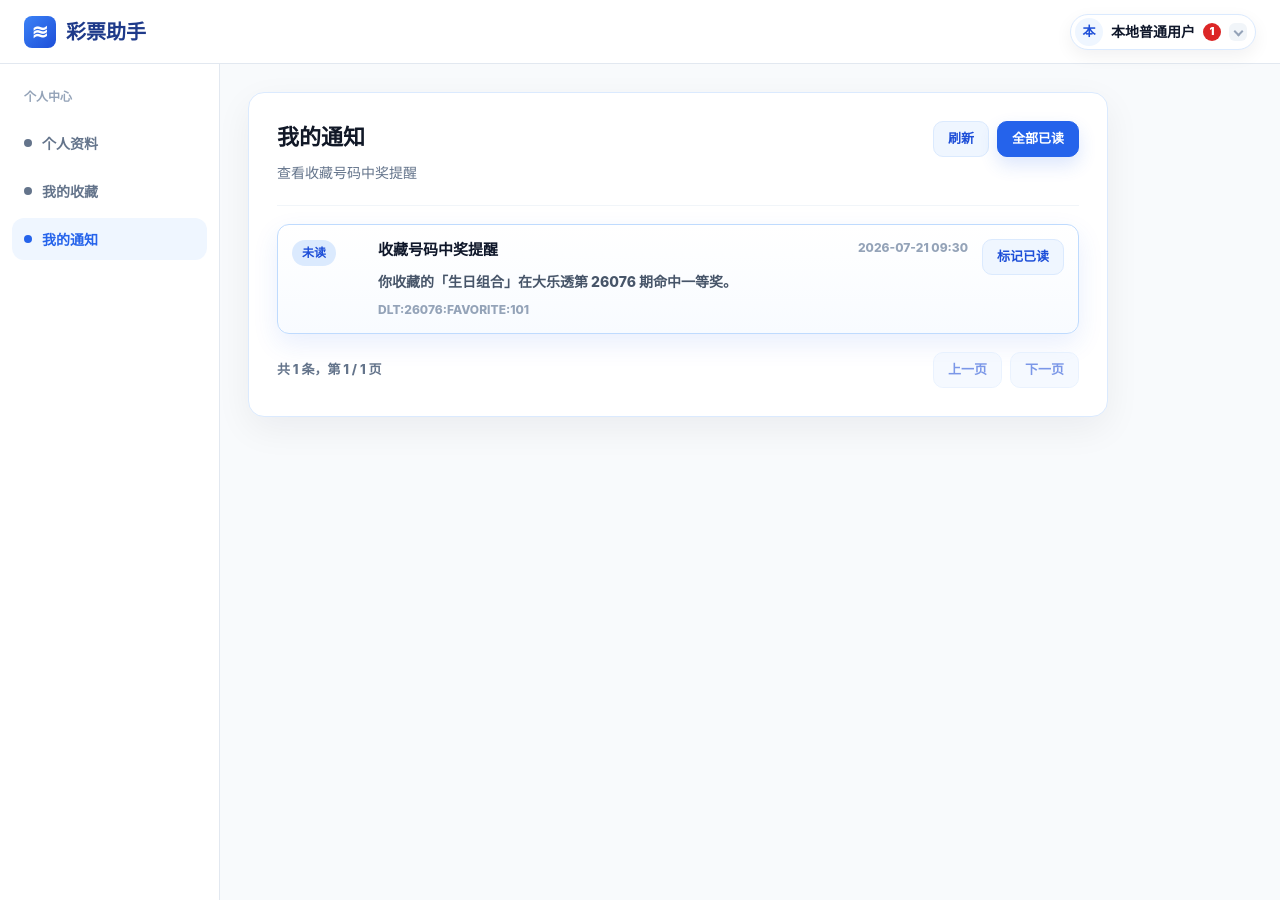
Test: NotificationsView › marks one unread notification as read and refreshes list
Expected: the text with class "account-trigger__badge" reads "1", [1210,24,1214,38]
Click the button with test id "read-notification".
click(1023, 257)  # box [982,239,1064,275]
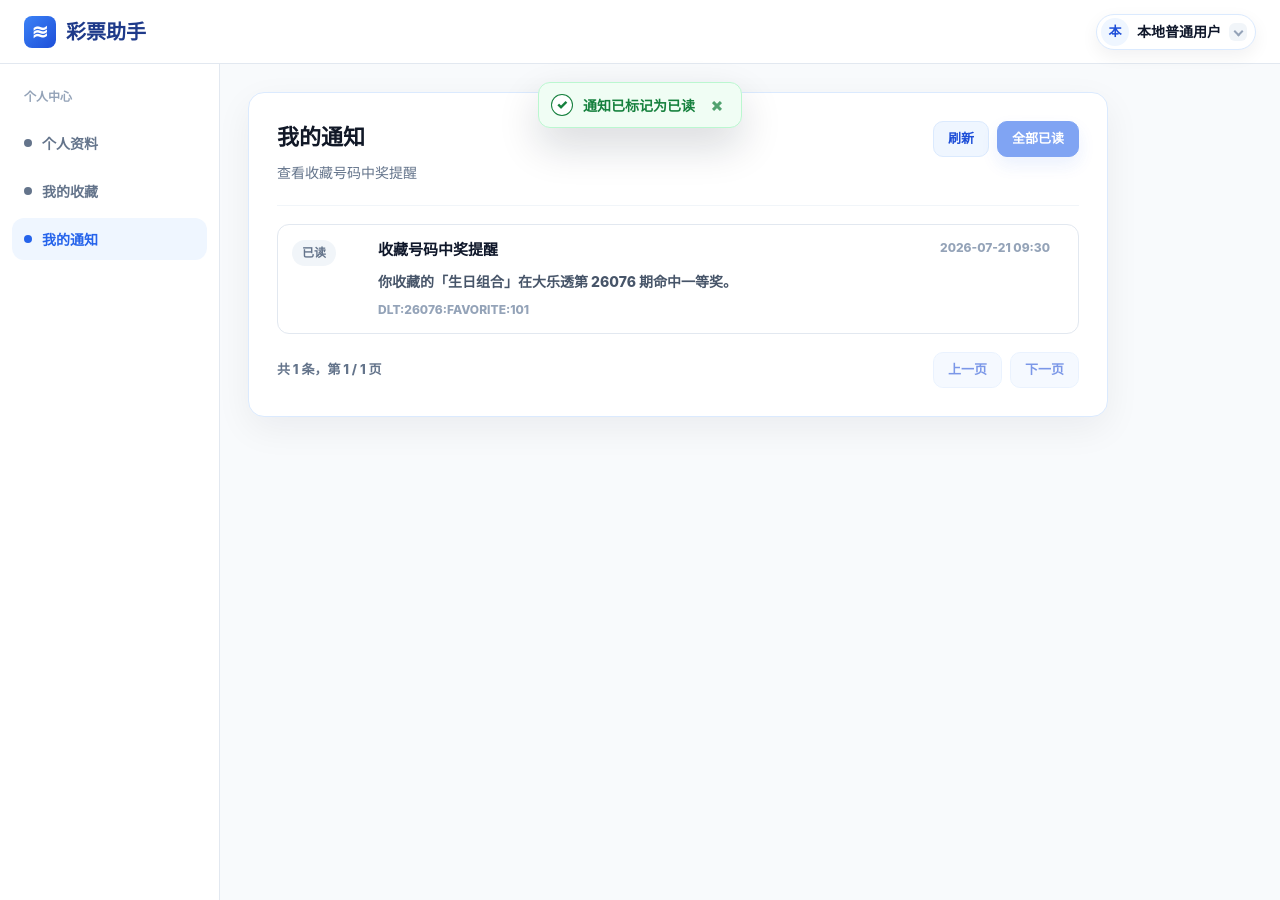
Expected: the text "通知已标记为已读" is shown, [583,94,695,116]
